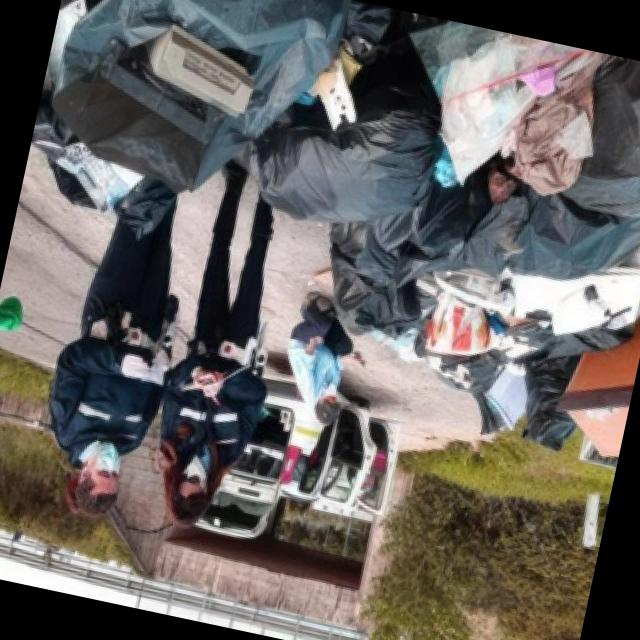high trash: (31, 0, 640, 456)
